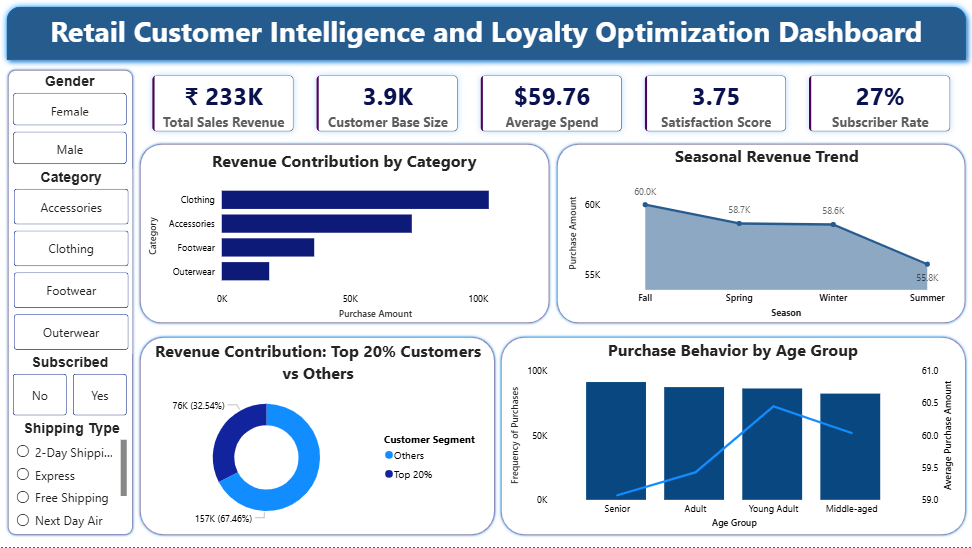

The page's visual inventory and layout, read from the dashboard file:
{"tool":"powerbi","page":{"name":"Retail Customer Intelligence and Loyalty Optimisation Dashboard","canvas":[1280,720],"ordinal":0},"visuals":[{"type":"cardVisual","fields":{"Data":["retail_customer_intelligence_cleaned.Total Revenue","retail_customer_intelligence_cleaned.Total Customers","retail_customer_intelligence_cleaned.Average Purchase Amount","retail_customer_intelligence_cleaned.Average Rating","retail_customer_intelligence_cleaned.Subscription Rate %"]},"box":[172,71.6,1108,130.8],"z":0},{"type":"shape","box":[0,0,1280,88],"z":1000},{"type":"textbox","box":[0,10.1,1280,64.9],"z":2000},{"type":"shape","box":[729.5,185.8,545,243.6],"z":3000},{"type":"shape","box":[180.3,185.8,546.4,243.6],"z":4000},{"type":"shape","box":[6.9,88.1,172,619.4],"z":5000},{"type":"shape","box":[180.3,439.1,474.8,268.4],"z":6000},{"type":"shape","box":[655.1,439.1,619.4,268.4],"z":7000},{"type":"advancedSlicerVisual","fields":{"Values":["retail_customer_intelligence_cleaned.subscription_status"]},"box":[12.2,465.6,160,86.7],"z":8000},{"type":"advancedSlicerVisual","fields":{"Values":["retail_customer_intelligence_cleaned.gender"]},"box":[12.2,95.6,160,126.7],"z":9000},{"type":"areaChart","title":"Seasonal Revenue Trend","fields":{"Category":["retail_customer_intelligence_cleaned.season"],"Y":["Sum(retail_customer_intelligence_cleaned.purchase_amount)"]},"box":[743.2,191.3,531.3,232.6],"z":10000},{"type":"clusteredBarChart","title":"Revenue Contribution by Category","fields":{"Y":["Sum(retail_customer_intelligence_cleaned.purchase_amount)"],"Category":["retail_customer_intelligence_cleaned.category"]},"box":[191.3,196.8,524.4,227.1],"z":11000},{"type":"lineClusteredColumnComboChart","title":"Purchase Behavior by Age Group","fields":{"Category":["retail_customer_intelligence_cleaned.age_group"],"Y":["Sum(retail_customer_intelligence_cleaned.purchase_frequency_days)"],"Y2":["Avg(retail_customer_intelligence_cleaned.purchase_amount)"]},"box":[667.5,445.9,594.6,254.6],"z":12000},{"type":"donutChart","title":"Revenue Contribution: Top 20% Customers vs Others","fields":{"Y":["retail_customer_intelligence_cleaned.Total Revenue"],"Category":["Customer Summary.Customer Segment"]},"box":[191.4,446.9,455.6,253.1],"z":13000},{"type":"advancedSlicerVisual","fields":{"Values":["retail_customer_intelligence_cleaned.category"]},"box":[13.3,222.2,161.1,243.3],"z":14000},{"type":"listSlicer","fields":{"Values":["retail_customer_intelligence_cleaned.shipping_type"]},"box":[15.6,552.2,156.7,147.8],"z":15000}]}

Visuals, with their boxes in screenshot pixels (x1, y1, x2, y2), scaled from the page's 1280x720 canvas onto the 972x548 screenshot:
cardVisual - retail_customer_intelligence_cleaned.Total Revenue x retail_customer_intelligence_cleaned.Total Customers: locate(131, 54, 971, 154)
shape: locate(0, 0, 971, 67)
textbox: locate(0, 8, 971, 57)
shape: locate(554, 141, 968, 327)
shape: locate(137, 141, 552, 327)
shape: locate(5, 67, 136, 538)
shape: locate(137, 334, 497, 538)
shape: locate(497, 334, 968, 538)
advancedSlicerVisual - retail_customer_intelligence_cleaned.subscription_status: locate(9, 354, 131, 420)
advancedSlicerVisual - retail_customer_intelligence_cleaned.gender: locate(9, 73, 131, 169)
"Seasonal Revenue Trend" areaChart: locate(564, 146, 968, 323)
"Revenue Contribution by Category" clusteredBarChart: locate(145, 150, 543, 323)
"Purchase Behavior by Age Group" lineClusteredColumnComboChart: locate(507, 339, 958, 533)
"Revenue Contribution: Top 20% Customers vs Others" donutChart: locate(145, 340, 491, 533)
advancedSlicerVisual - retail_customer_intelligence_cleaned.category: locate(10, 169, 132, 354)
listSlicer - retail_customer_intelligence_cleaned.shipping_type: locate(12, 420, 131, 533)
